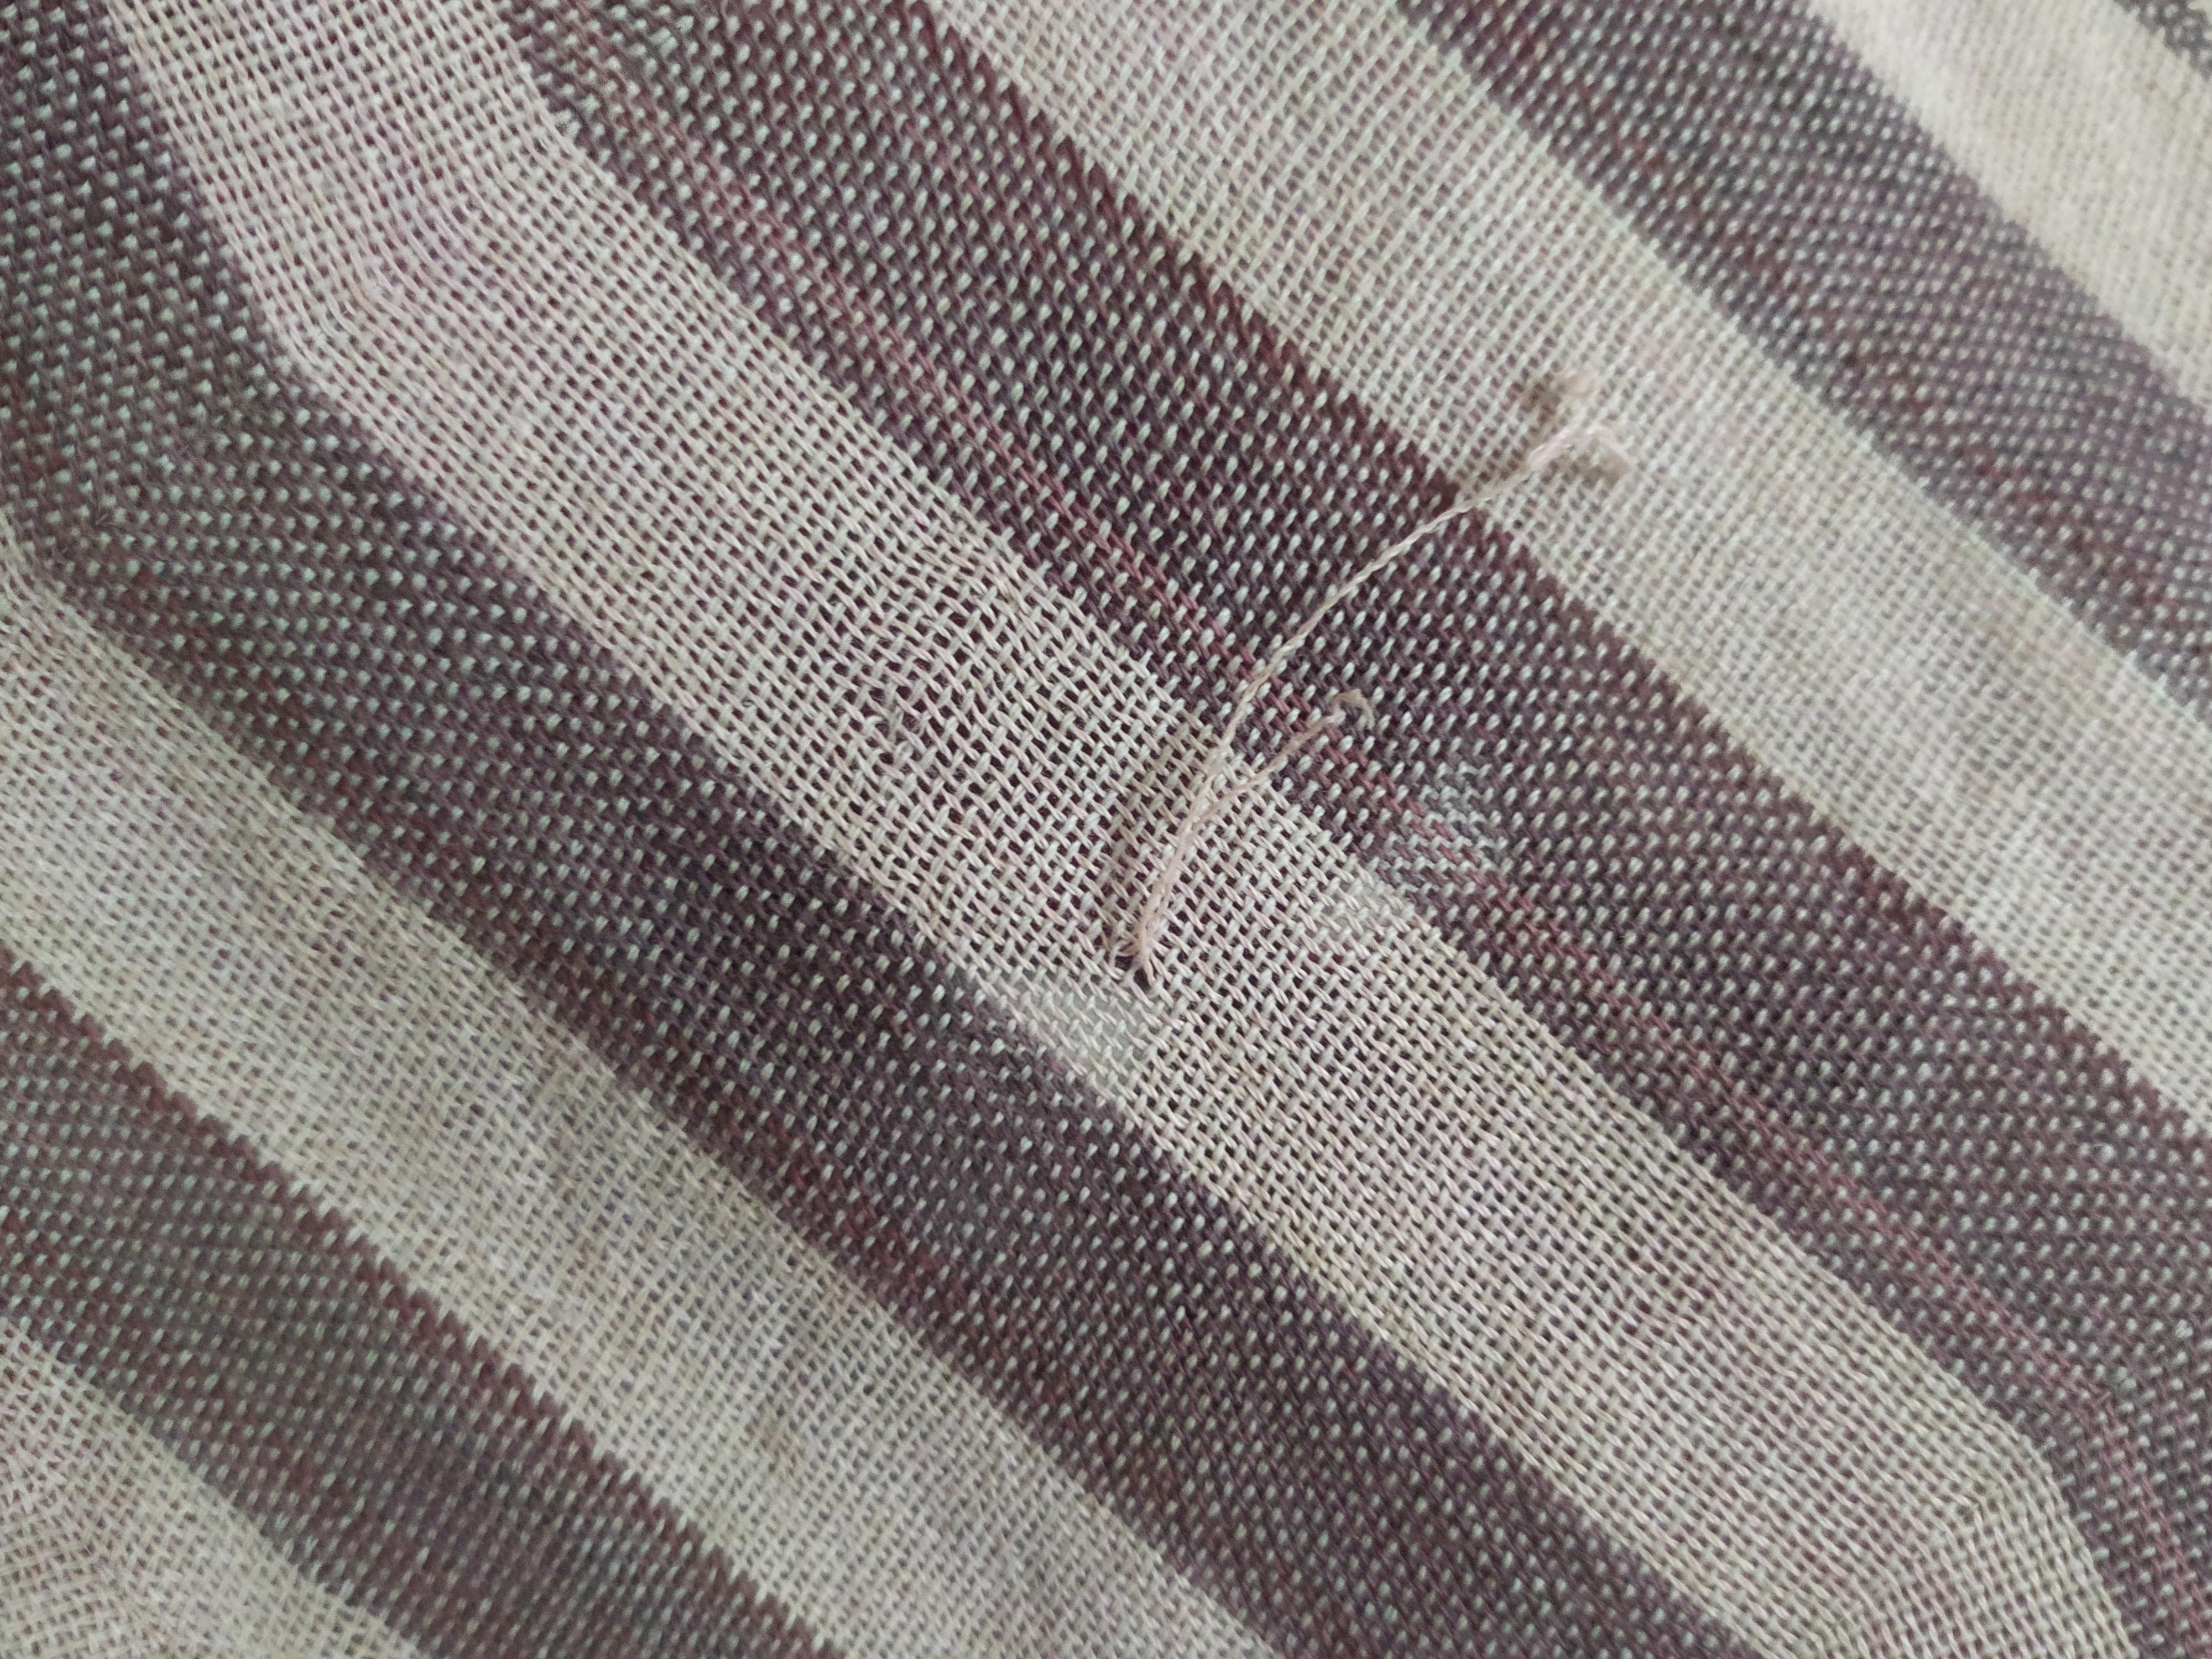snag: (1057, 354, 1759, 1025)
